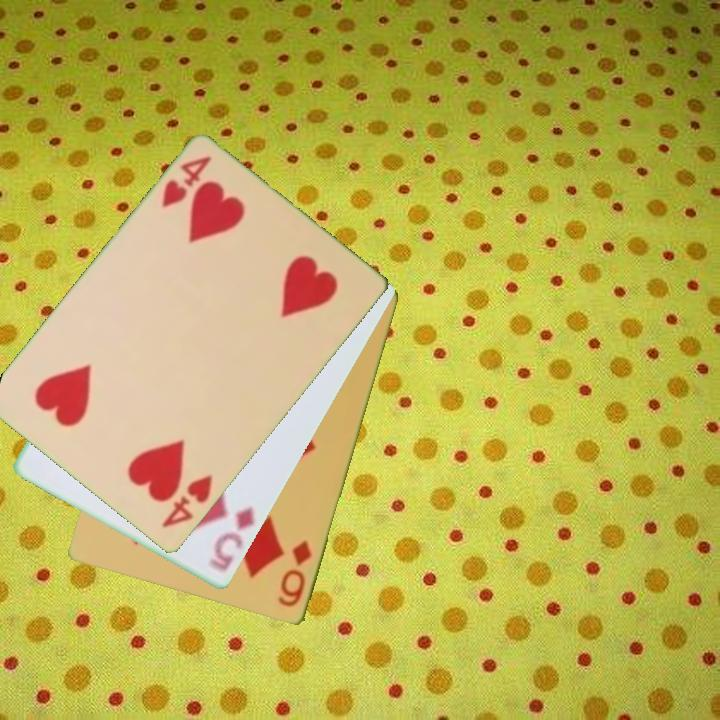4h: (158, 472, 216, 532), (158, 152, 215, 212)
5d: (205, 504, 257, 575)
6d: (274, 537, 315, 611)
